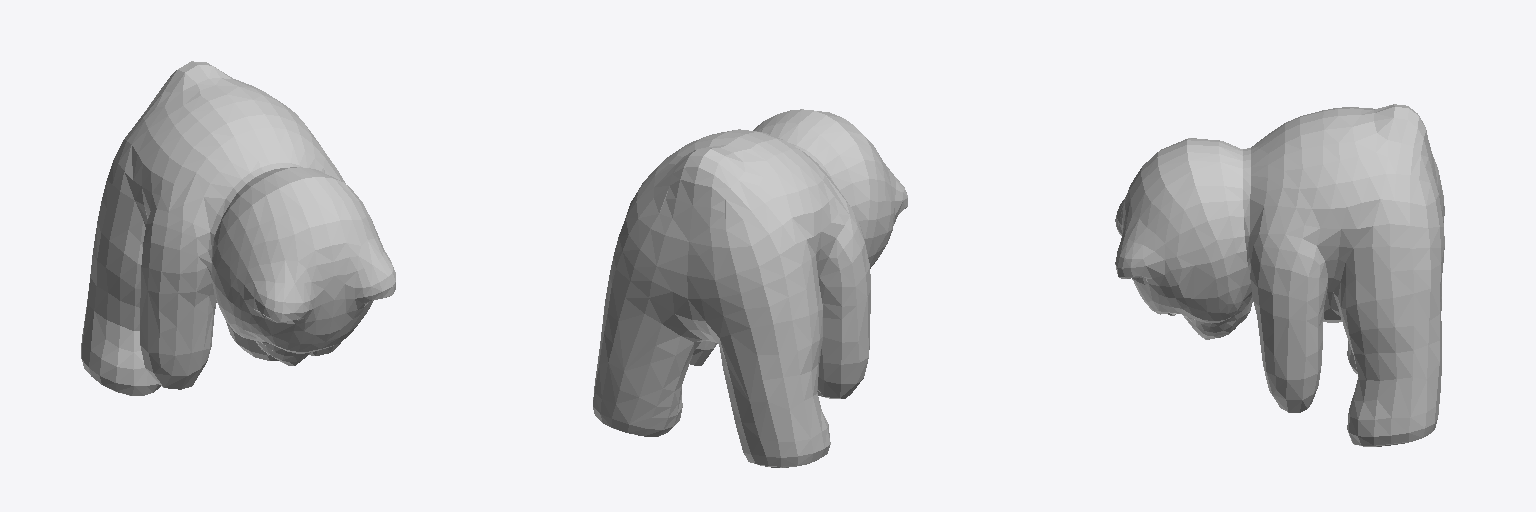
File: tinker.obj
The picture shows the model from 3 angles: view 1: azimuth 30°, elevation 25°; view 2: azimuth 150°, elevation 25°; view 3: azimuth 270°, elevation 25°; orthographic projection.
Visible parts, largest first — view 1: obj_0.034; view 2: obj_0.034; view 3: obj_0.034.
Boxes of the visible parts, <box> form: obj_0.034: <box>81,61,395,395</box>; obj_0.034: <box>593,109,907,467</box>; obj_0.034: <box>1115,104,1444,446</box>.
Bounding box in the file's own units: 9 × 11.5 × 11.5.